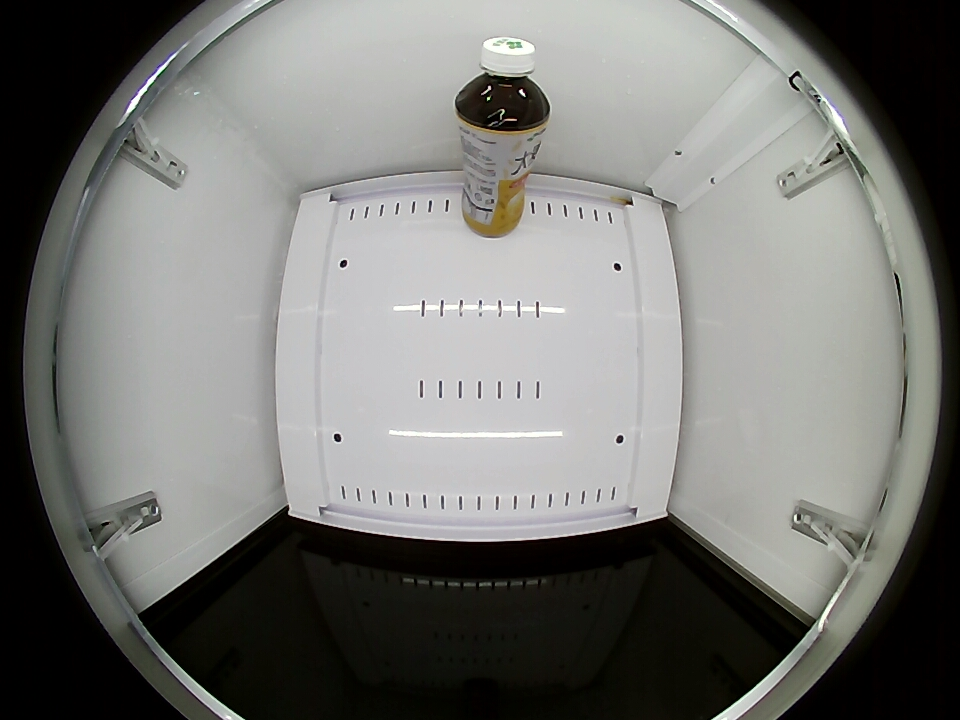damaicha: (455, 36, 549, 134)
